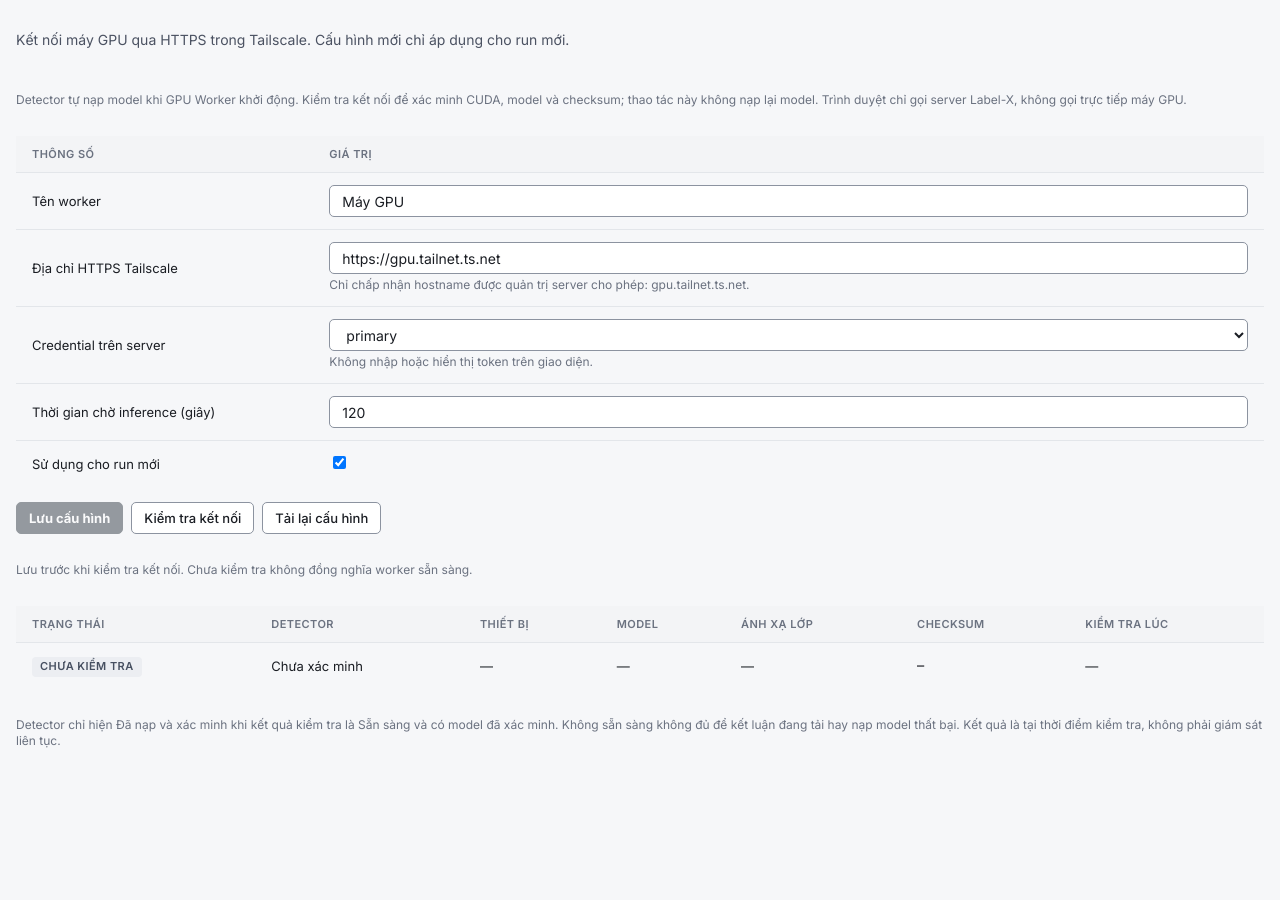
Scenario: edits and saves a revision before enabling probe
The width and height of the screenshot is (1280, 900).
Replace the text in the field labelled "Tên worker" with "Máy mới" at (789, 201), box [329, 185, 1248, 217]
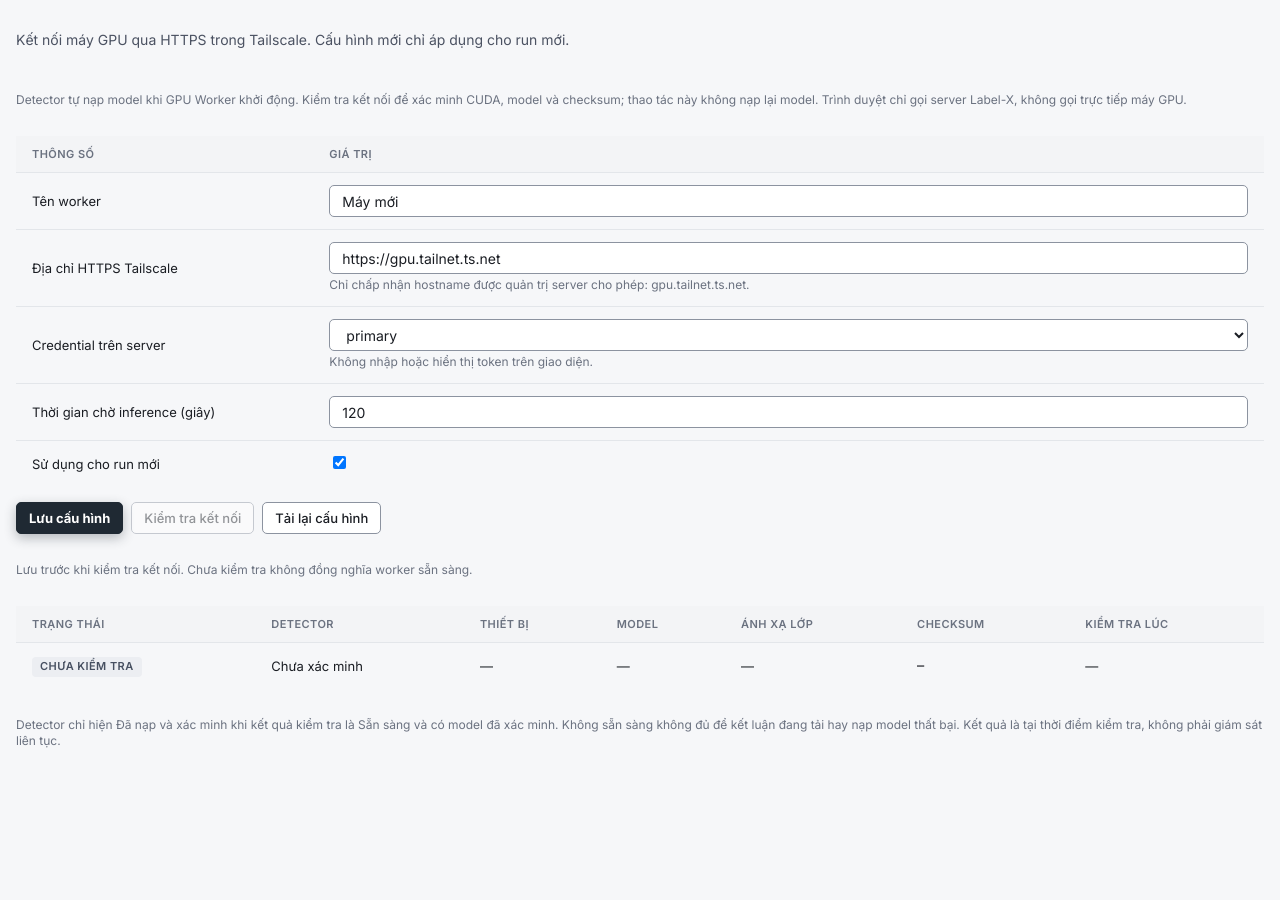
Expected: the button "Kiểm tra kết nối" is disabled, [131, 502, 254, 534]
Submit the form named "Cấu hình GPU Worker", box [16, 136, 1264, 534]
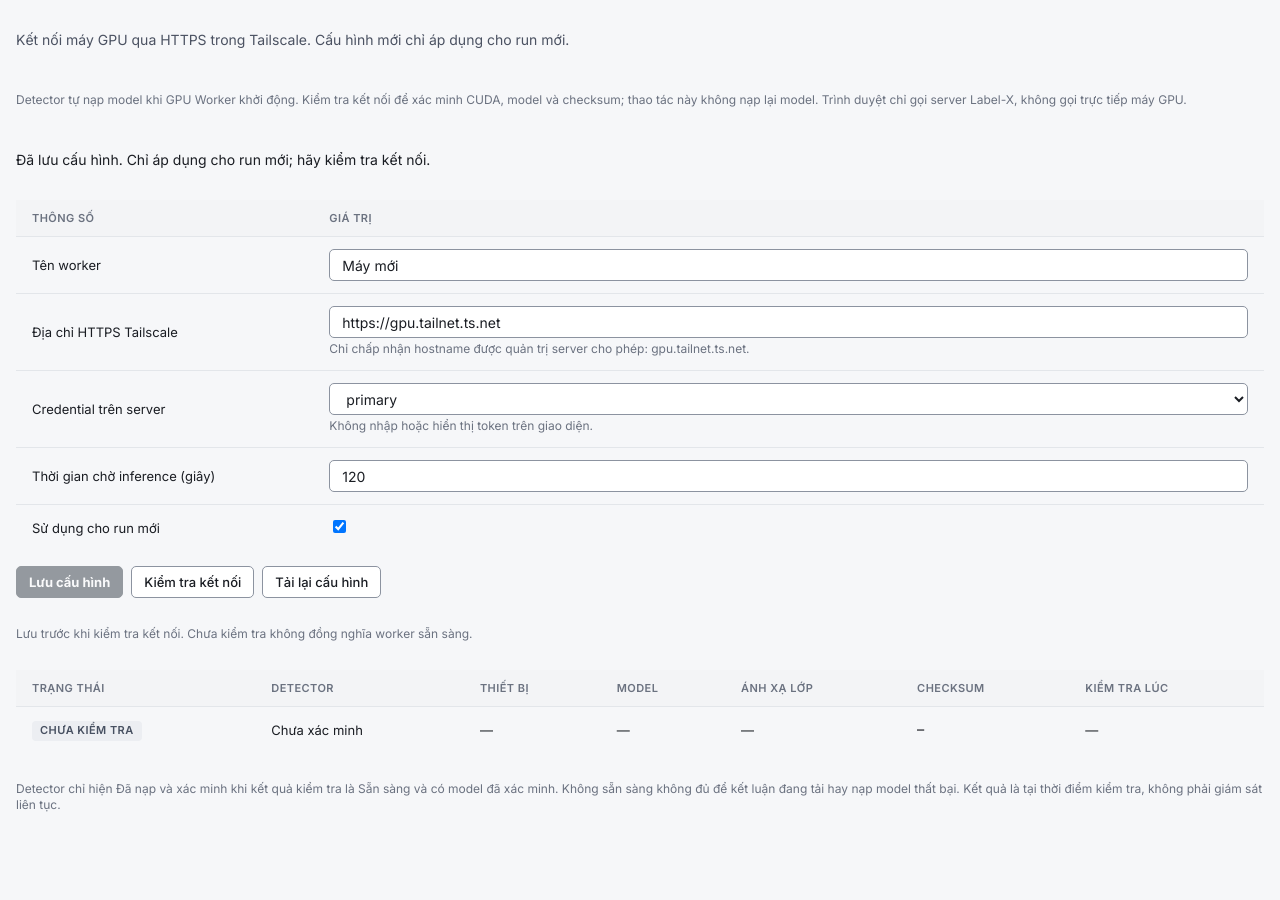
Expected: the text "Đã lưu cấu hình. Chỉ áp dụng cho run mới; hãy kiểm tra kết nối." is shown, [16, 151, 430, 168]
Expected: the button "Kiểm tra kết nối" is enabled, [131, 566, 254, 598]
